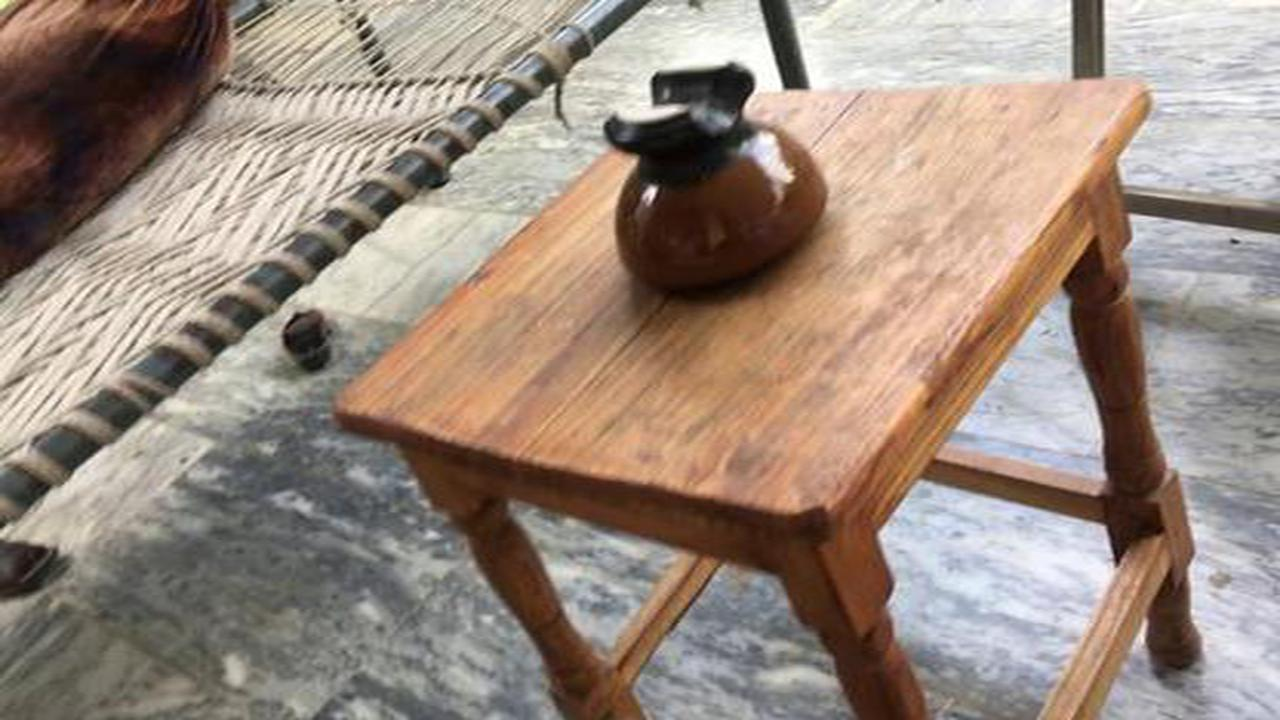insulator_pin: (573, 49, 853, 316)
